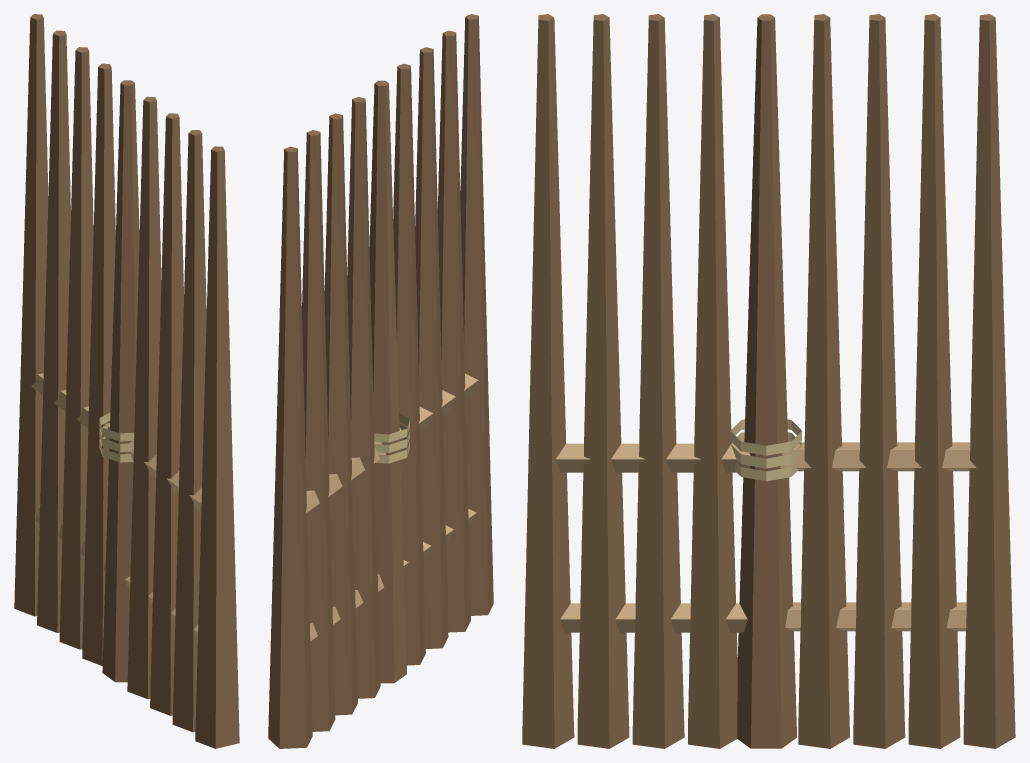
Rendered from palisade_05.glb.
3 renders of one model, left to right at view 1: azimuth 30°, elevation 25°; view 2: azimuth 150°, elevation 25°; view 3: azimuth 270°, elevation 25°, orthographic. The views are drawn at different scales.
Visible parts, largest first — view 1: palisade_05; view 2: palisade_05; view 3: palisade_05.
Part boxes in pixels (left/top/right/bottom): palisade_05: left=14, top=14, right=239, bottom=748; palisade_05: left=268, top=14, right=493, bottom=748; palisade_05: left=522, top=14, right=1015, bottom=748.
Bounding box in the file's own units: 0.162 × 1.8 × 1.12.
